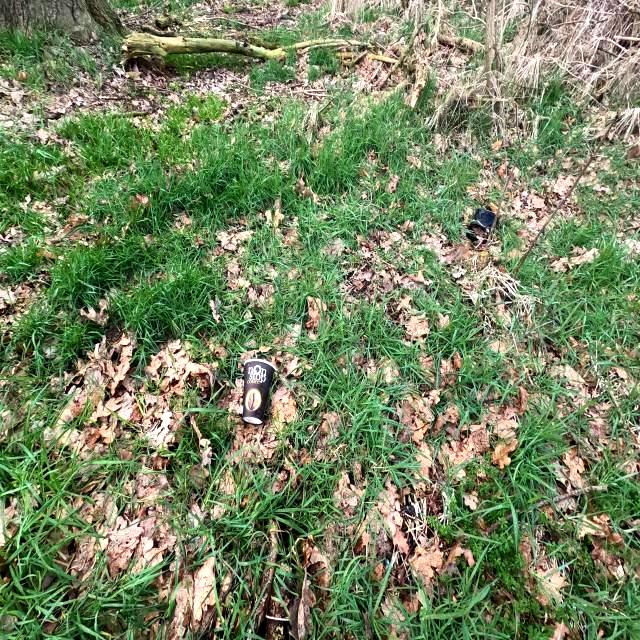Coffee Cup: (240, 354, 278, 426)
